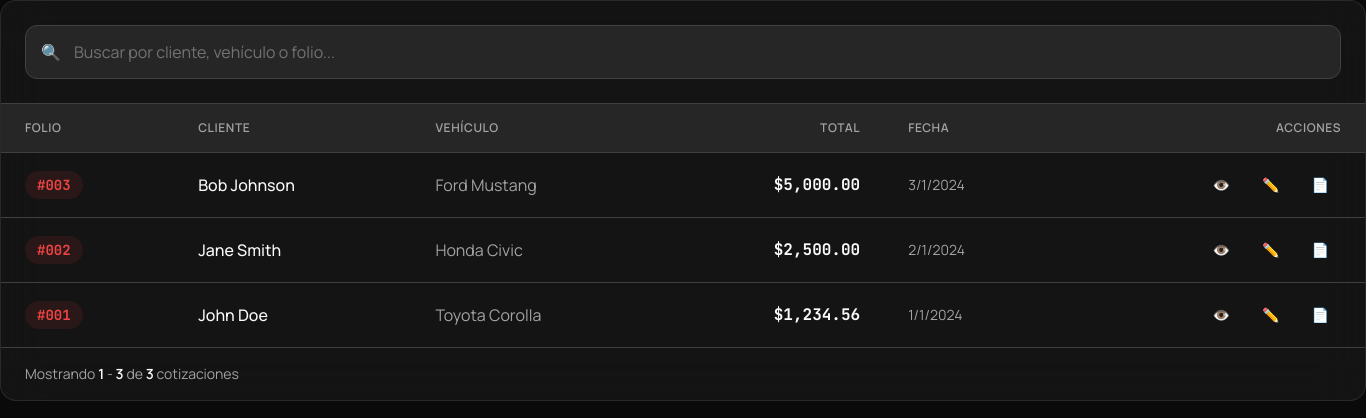
Scenario: QuotationList component › filters quotations by folio
Type "001" into the field with placeholder "Buscar por cliente, vehículo o folio...". click: (683, 52)
box: [25,25,1341,79]
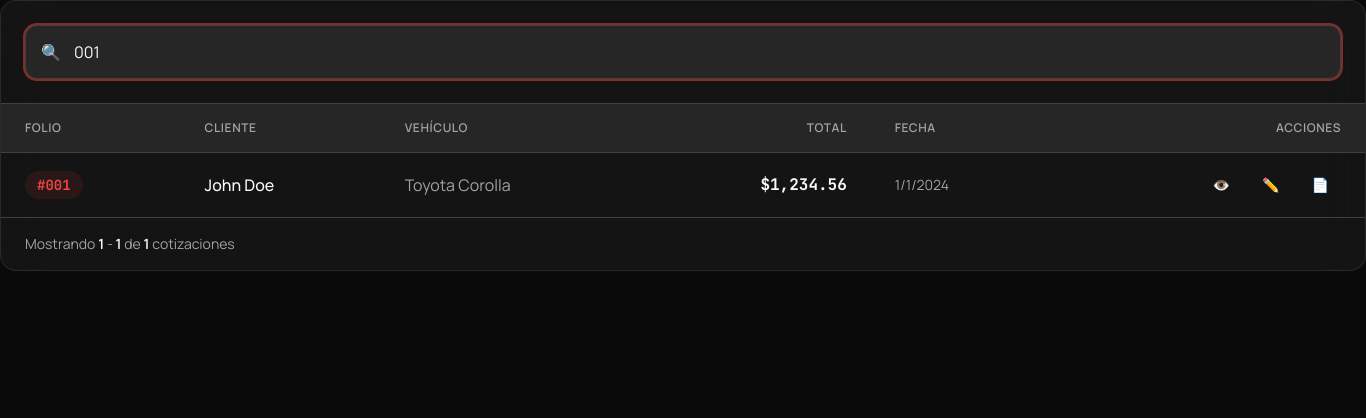
expect the text "John Doe" is shown: met, box [180,152,381,217]
expect the text "Jane Smith" is gone: met
